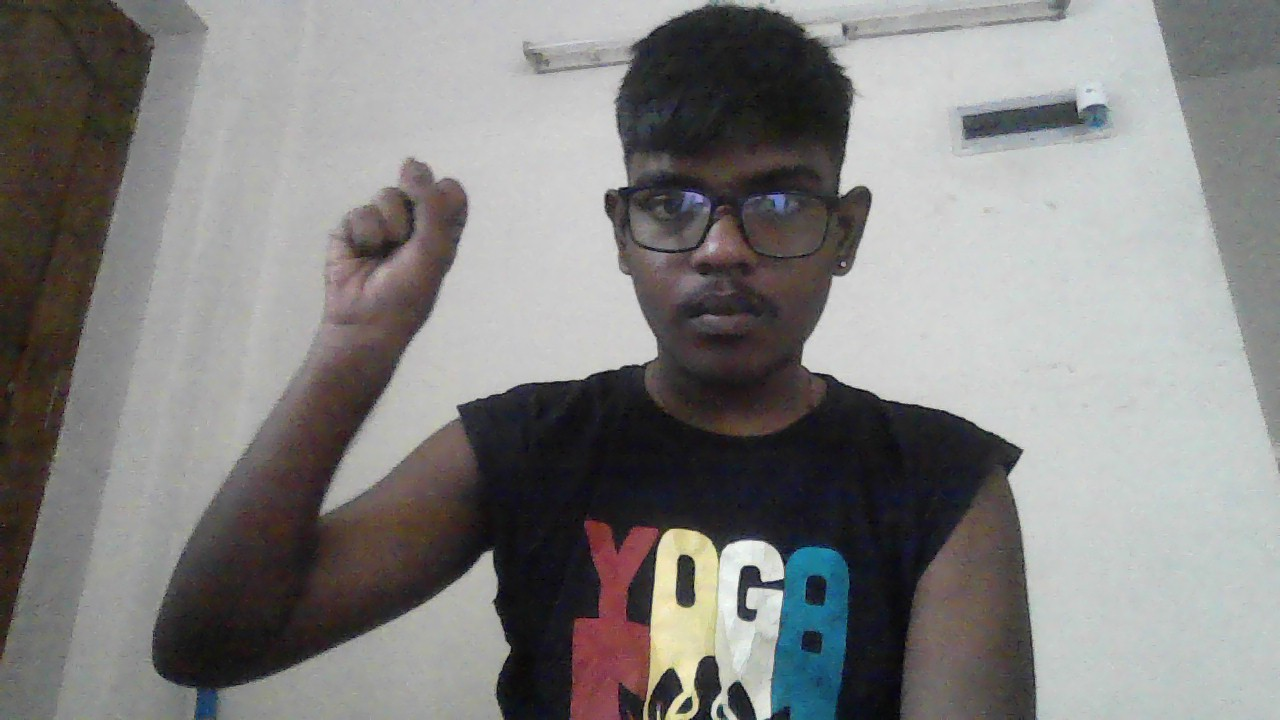S: (324, 158, 469, 335)
